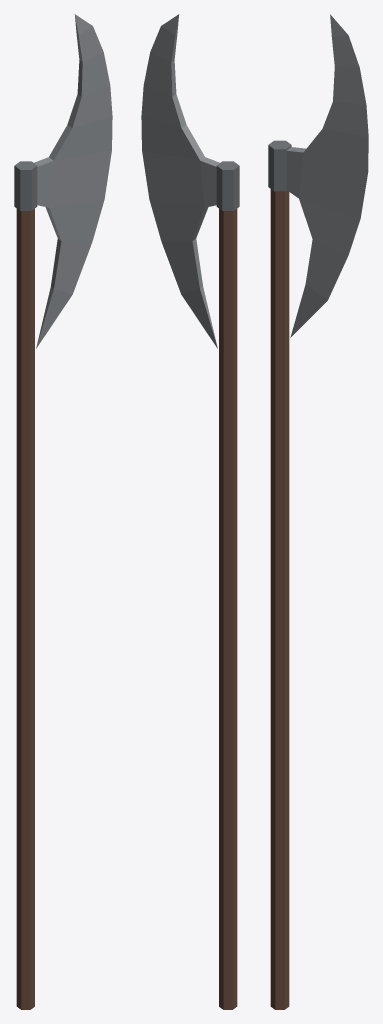
File: Poleaxe.007.fbx
3 renders of one model, left to right at view 1: azimuth 30°, elevation 25°; view 2: azimuth 150°, elevation 25°; view 3: azimuth 330°, elevation 25°, orthographic. The views are drawn at different scales.
Parts seen in each view (by area): view 1: Poleaxe.007; view 2: Poleaxe.007; view 3: Poleaxe.007.
Part boxes in pixels (x1,y1,x2,y2): Poleaxe.007: (14, 14, 112, 1009); Poleaxe.007: (141, 14, 239, 1009); Poleaxe.007: (268, 14, 368, 1009).
Size of the model in its own units: 17.83 by 175 by 3.72.
